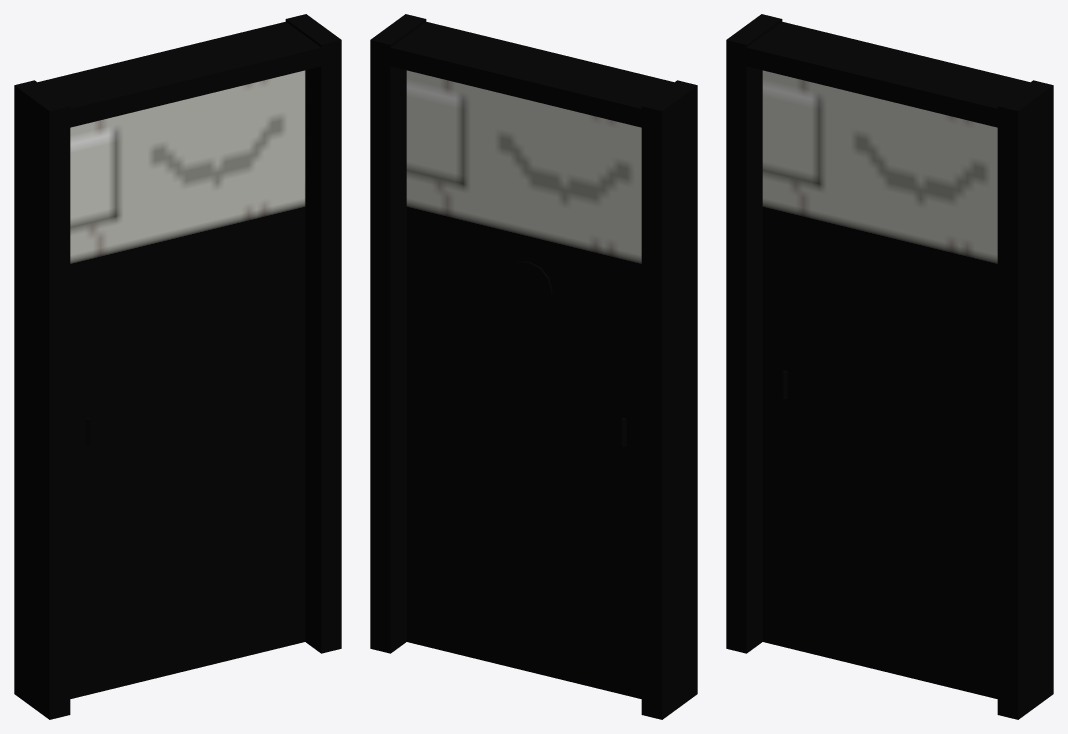
The model's file is SM_door_crest.fbx.
3 views of the same model, side by side, from view 1: azimuth 30°, elevation 25°; view 2: azimuth 150°, elevation 25°; view 3: azimuth 330°, elevation 25° (orthographic).
Parts seen in each view (by area): view 1: door_crest_leaf, door_crest_casing_r, door_crest, door_crest_casing_top; view 2: door_crest_leaf, door_crest_casing_r, door_crest, door_crest_casing_top, door_crest_emblem; view 3: door_crest_leaf, door_crest, door_crest_casing_r, door_crest_casing_top.
Part boxes in pixels (<box>): door_crest_leaf: <box>70,70,305,698</box>; door_crest_casing_r: <box>14,80,70,719</box>; door_crest: <box>285,14,341,653</box>; door_crest_casing_top: <box>38,21,326,128</box>; door_crest_leaf: <box>406,70,641,698</box>; door_crest_casing_r: <box>641,80,697,719</box>; door_crest: <box>370,14,426,653</box>; door_crest_casing_top: <box>385,21,673,128</box>; door_crest_emblem: <box>505,261,552,310</box>; door_crest_leaf: <box>762,70,997,698</box>; door_crest: <box>997,80,1053,719</box>; door_crest_casing_r: <box>726,14,782,653</box>; door_crest_casing_top: <box>741,21,1029,128</box>.
Size of the model in its own units: 1.14 by 2.27 by 0.24.
